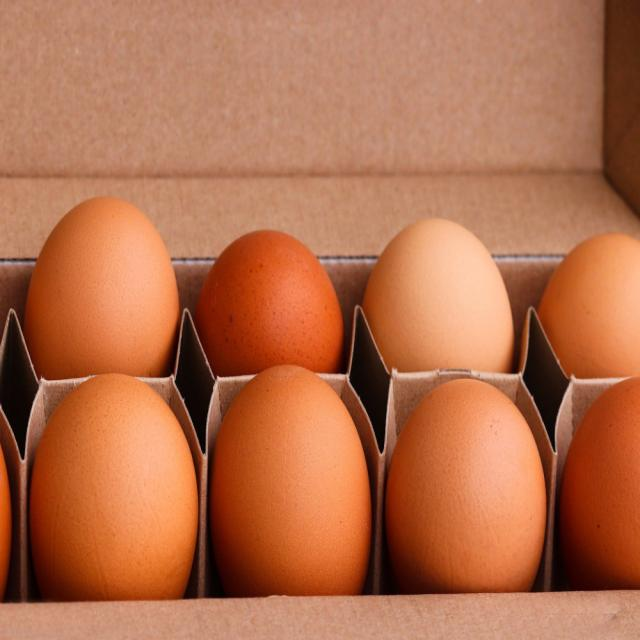Egg: (32, 224, 640, 581), (202, 361, 373, 589), (31, 371, 206, 593)
